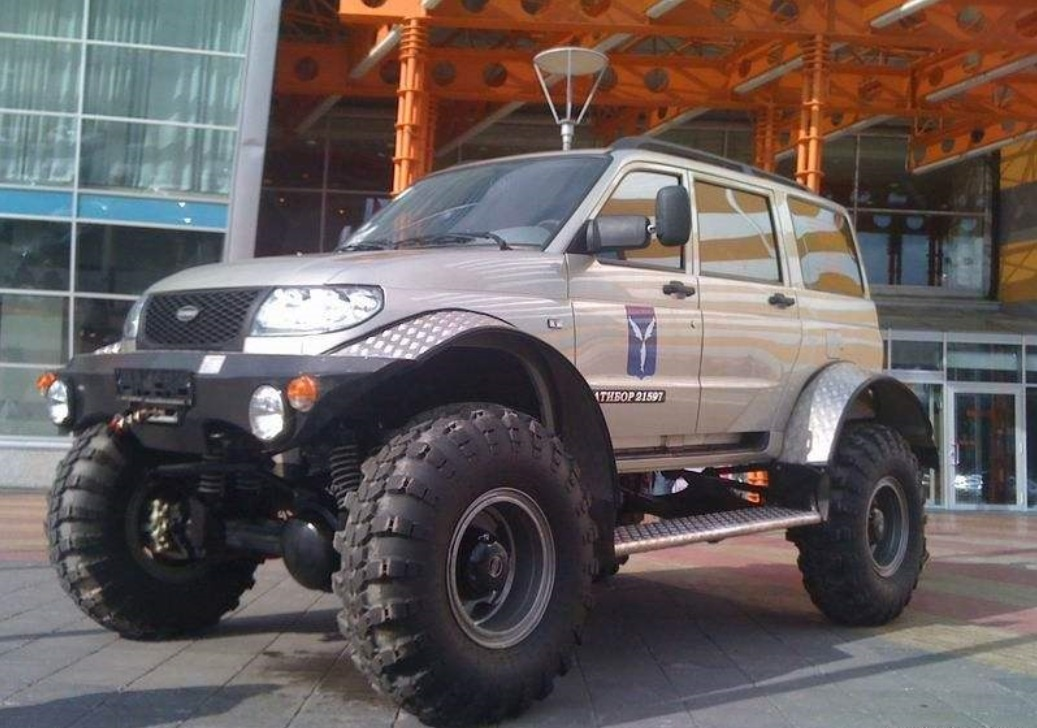jeep: (46, 148, 935, 698)
